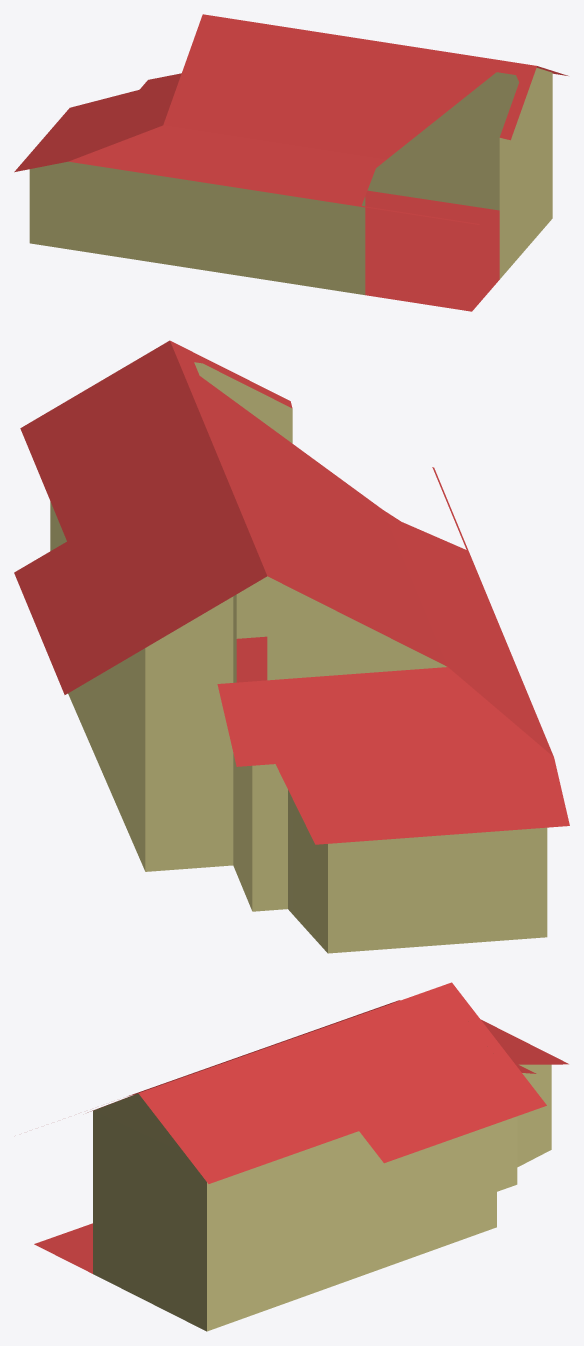
3 views of the same model, one above another, from view 1: azimuth 30°, elevation 25°; view 2: azimuth 150°, elevation 25°; view 3: azimuth 270°, elevation 25° (orthographic). The views are drawn at different scales.
Bounding box in the file's own units: 31.9 × 29.67 × 12.54.
